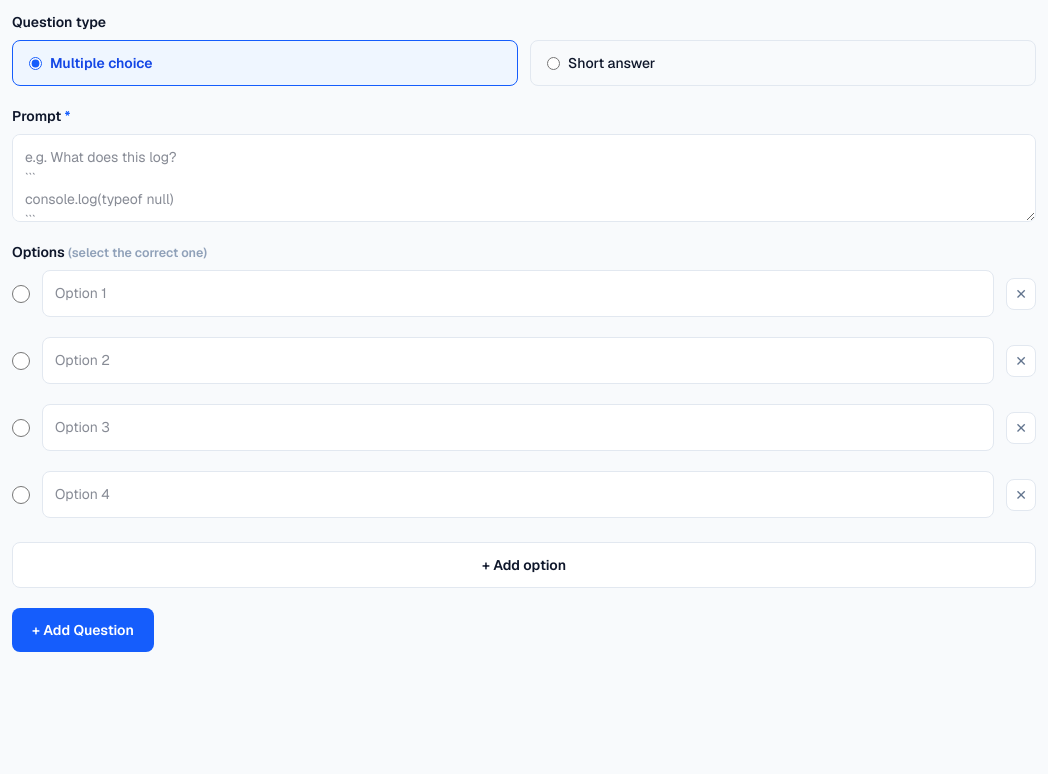
Test: QuestionForm › shows a prompt validation error when submitted empty
Click the button "+ Add Question".
click(83, 630)  # box [12,608,154,652]
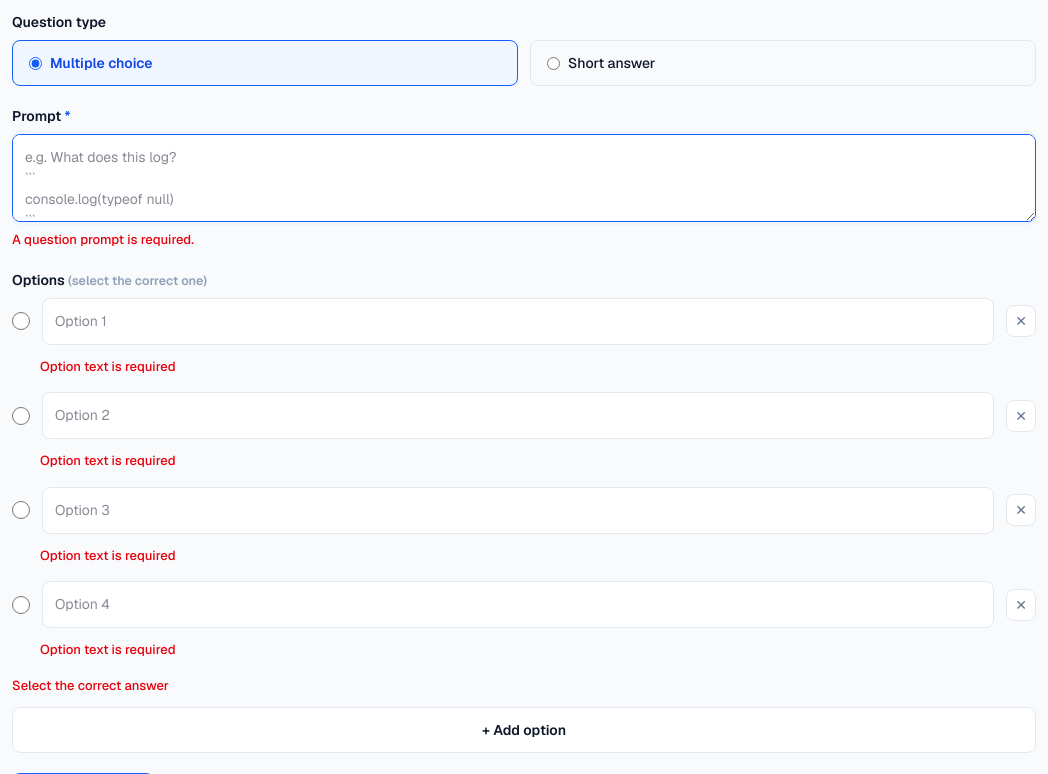
Now the text "A question prompt is required." is shown, box [12,231,194,248]
